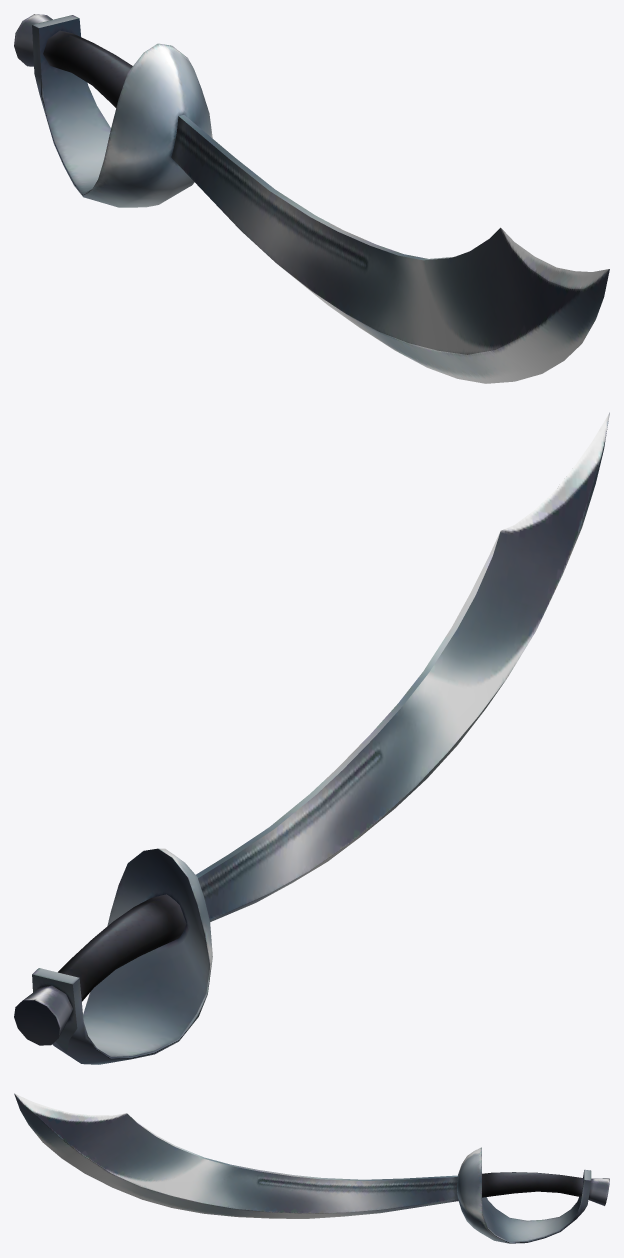
The picture shows the model from 3 angles, top to bottom: view 1: azimuth 30°, elevation 25°; view 2: azimuth 150°, elevation 25°; view 3: azimuth 270°, elevation 25°; orthographic projection. The views are drawn at different scales.
Parts seen in each view (by area): view 1: mSword; view 2: mSword; view 3: mSword.
Part boxes in pixels (box(x1,y1,x2,y2)): mSword: box(14, 14, 609, 383); mSword: box(14, 412, 609, 1064); mSword: box(14, 1093, 609, 1243).
Size of the model in its own units: 0.0923 by 0.2286 by 0.8334.
1 material, 1 textured.
